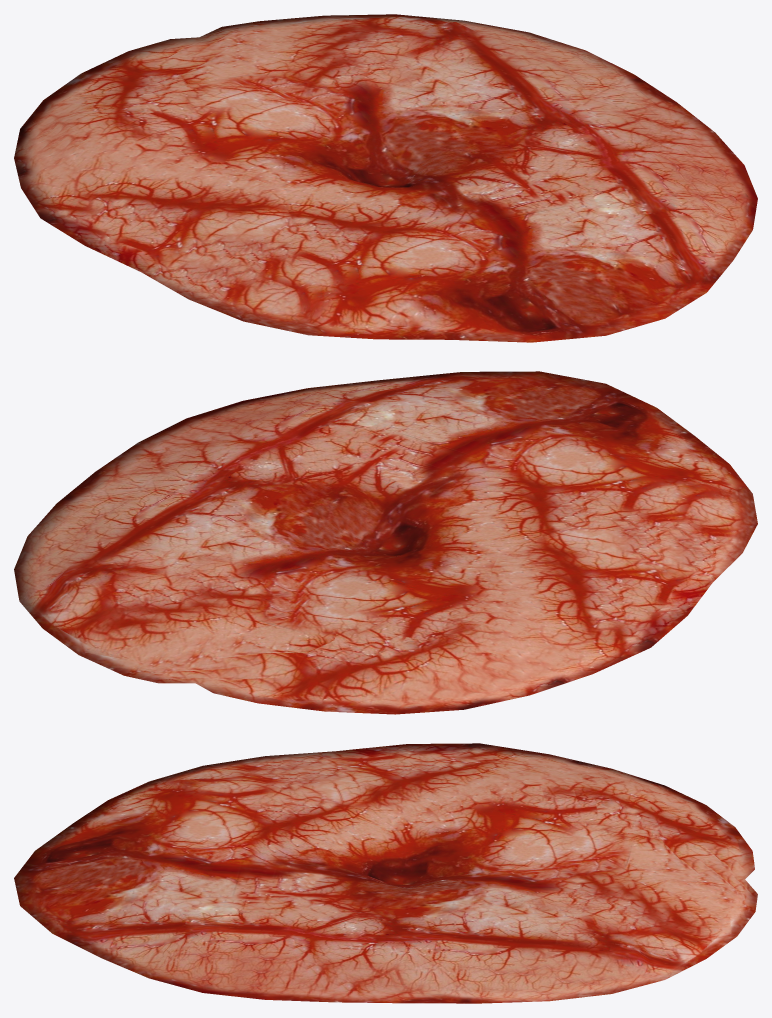
The model's file is hjq1.fbx.
The picture shows the model from 3 angles, top to bottom: view 1: azimuth 30°, elevation 25°; view 2: azimuth 150°, elevation 25°; view 3: azimuth 270°, elevation 25°; orthographic projection. The views are drawn at different scales.
Visible parts, largest first — view 1: zhongliu:pCube2; view 2: zhongliu:pCube2; view 3: zhongliu:pCube2.
Part boxes in pixels (bbox=[...]): zhongliu:pCube2: bbox=[14, 14, 757, 342]; zhongliu:pCube2: bbox=[14, 371, 757, 714]; zhongliu:pCube2: bbox=[14, 743, 757, 1003].
Size of the model in its own units: 22.35 by 0.9899 by 26.99.
